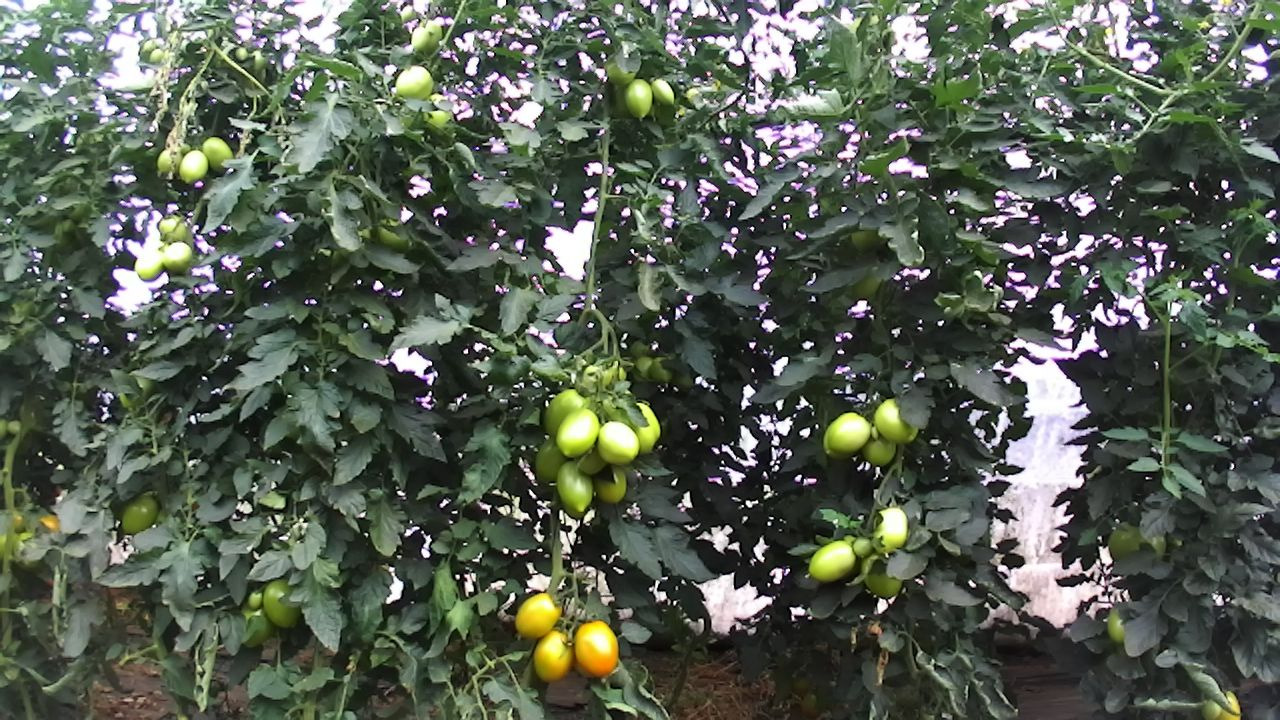tomato: (569, 617, 621, 678), (530, 625, 577, 686), (512, 588, 565, 642), (553, 406, 602, 460), (870, 395, 920, 447), (594, 417, 642, 469), (805, 538, 858, 585), (539, 387, 586, 438), (858, 547, 903, 600), (553, 458, 594, 516), (261, 576, 303, 631), (824, 409, 873, 456), (531, 437, 573, 486), (871, 505, 911, 554), (118, 491, 161, 534), (857, 428, 900, 468), (393, 64, 435, 103), (622, 77, 654, 122), (199, 134, 234, 175), (408, 19, 444, 56), (176, 148, 210, 187), (647, 76, 677, 107), (850, 535, 872, 558)
